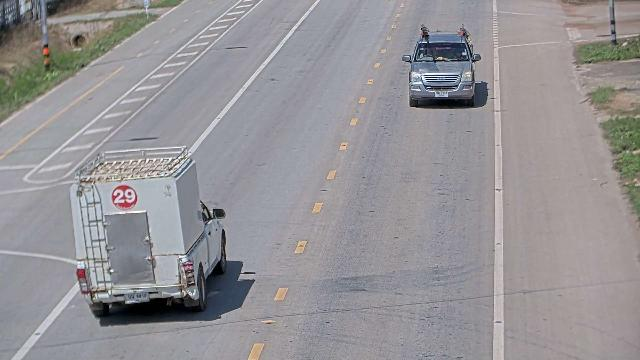pickup-truck: (402, 22, 481, 107)
truck: (70, 144, 229, 316)
